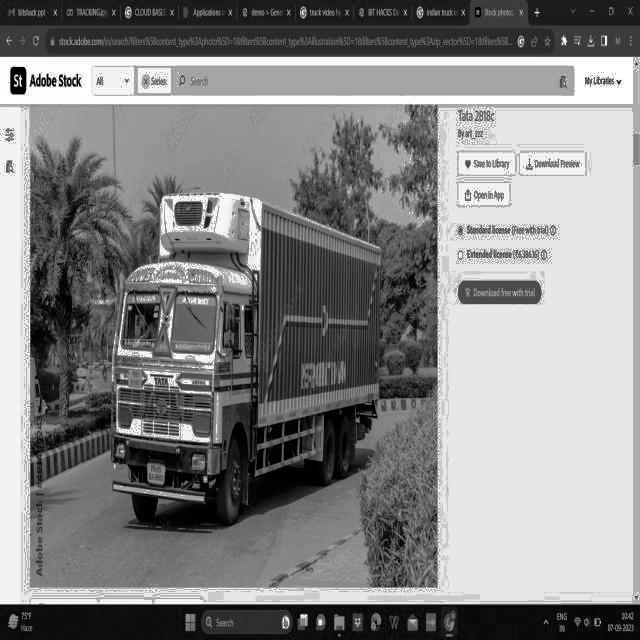HCV: (97, 159, 405, 540)
